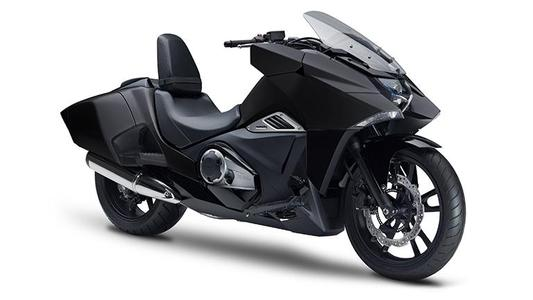motor: (72, 18, 495, 289)
